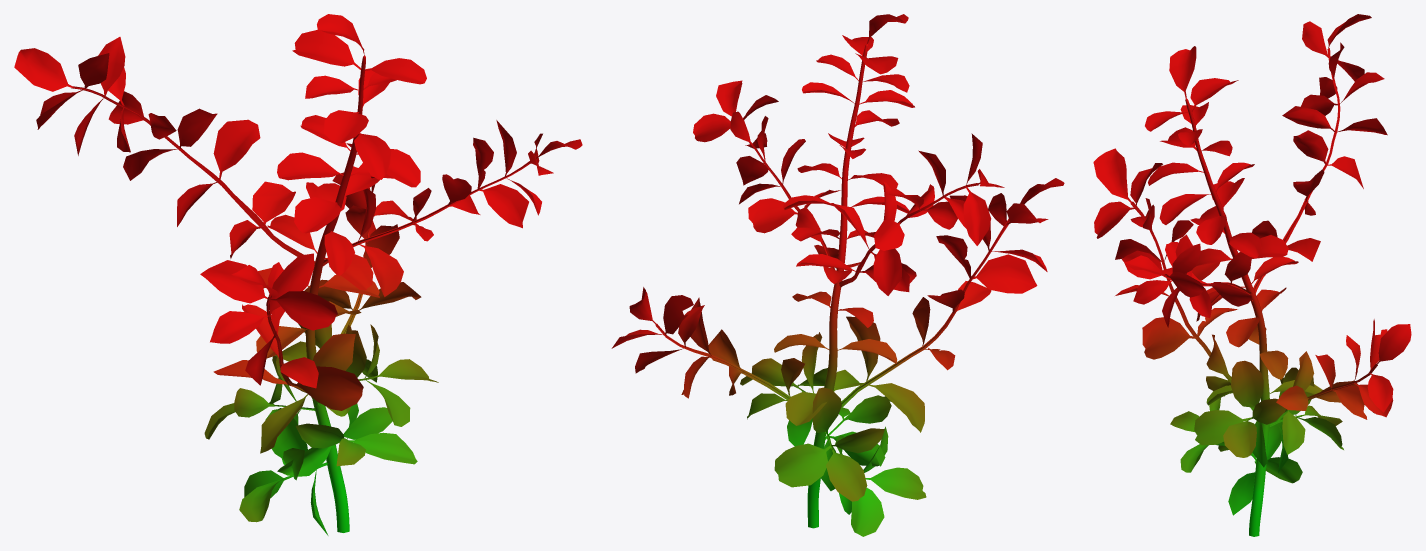
File: Var6_LOD0.fbx
3 renders of one model, left to right at view 1: azimuth 30°, elevation 25°; view 2: azimuth 150°, elevation 25°; view 3: azimuth 270°, elevation 25°, orthographic. The views are drawn at different scales.
Parts seen in each view (by area): view 1: _08rr_Var6_LOD0; view 2: _08rr_Var6_LOD0; view 3: _08rr_Var6_LOD0.
Boxes of the visible parts, bbox=[...] form: _08rr_Var6_LOD0: bbox=[14, 14, 582, 535]; _08rr_Var6_LOD0: bbox=[611, 14, 1064, 536]; _08rr_Var6_LOD0: bbox=[1093, 14, 1411, 536].
Bounding box in the file's own units: 62.05 × 74.57 × 46.09.
